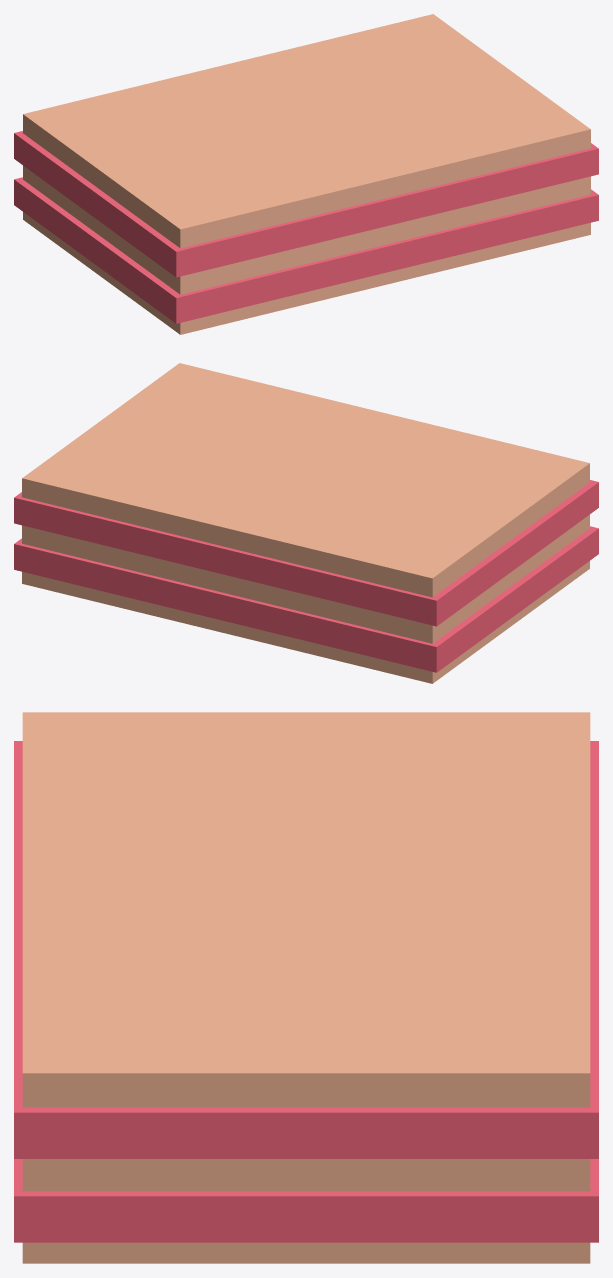
Rendered from boloretangulo morango.glb.
3 renders of one model, top to bottom at view 1: azimuth 30°, elevation 25°; view 2: azimuth 150°, elevation 25°; view 3: azimuth 270°, elevation 25°, orthographic. The views are drawn at different scales.
Parts seen in each view (by area): view 1: Cube.003, Cube.002, Cube.001; view 2: Cube.003, Cube.002, Cube.001; view 3: Cube.003, Cube.001, Cube.002.
Part boxes in pixels (<box>): Cube.003: <box>23,14,590,334</box>; Cube.002: <box>14,177,598,323</box>; Cube.001: <box>14,131,598,277</box>; Cube.003: <box>22,363,589,683</box>; Cube.002: <box>14,526,598,672</box>; Cube.001: <box>14,480,598,626</box>; Cube.003: <box>22,712,590,1263</box>; Cube.001: <box>14,741,598,1158</box>; Cube.002: <box>14,1159,598,1242</box>.
Bounding box in the file's own units: 3.1 × 0.7391 × 2.06.
